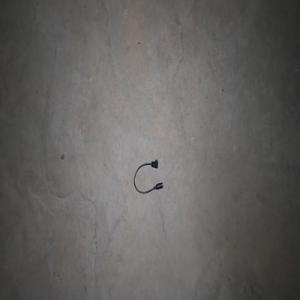Wire: (133, 159, 163, 193)
